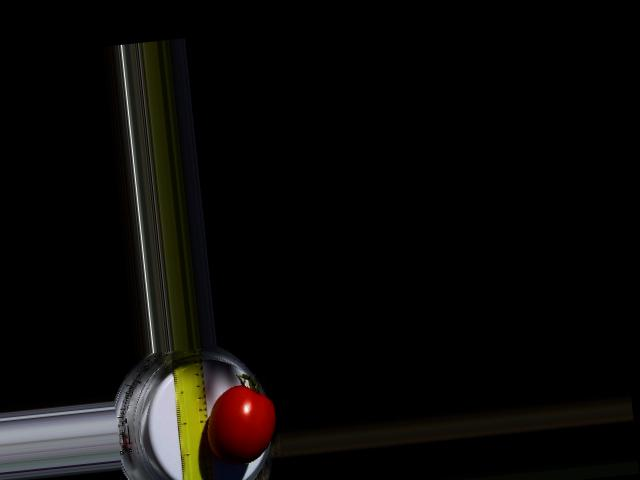tomato: (201, 381, 280, 466)
